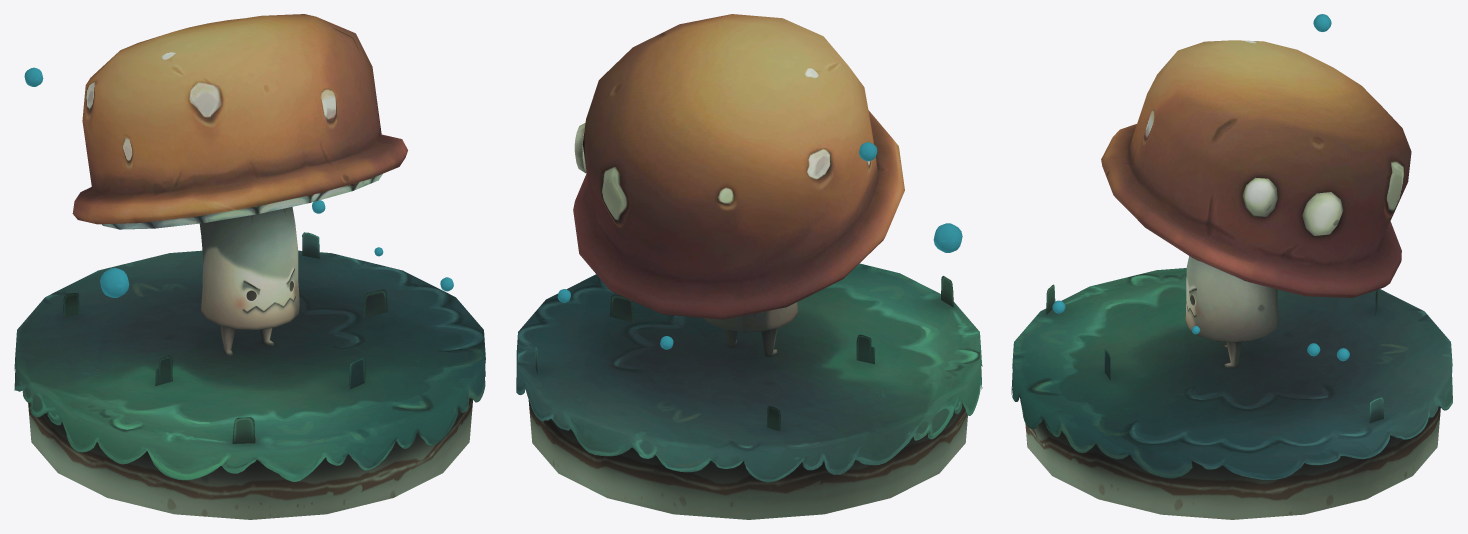
File: mushroom0.gltf
The picture shows the model from 3 angles, left to right: view 1: azimuth 30°, elevation 25°; view 2: azimuth 150°, elevation 25°; view 3: azimuth 270°, elevation 25°; orthographic projection. The views are drawn at different scales.
Parts seen in each view (by area): view 1: Mesh_0, Mesh_1; view 2: Mesh_0, Mesh_1; view 3: Mesh_0, Mesh_1.
Part boxes in pixels (x1,y1,x2,y2): Mesh_0: (14,67,485,519); Mesh_1: (72,14,407,356); Mesh_0: (516,142,982,519); Mesh_1: (573,14,904,356); Mesh_0: (1011,14,1452,519); Mesh_1: (1101,40,1411,367).
Size of the model in its own units: 2.97 by 2.71 by 2.92.
2 materials, 2 textured.
